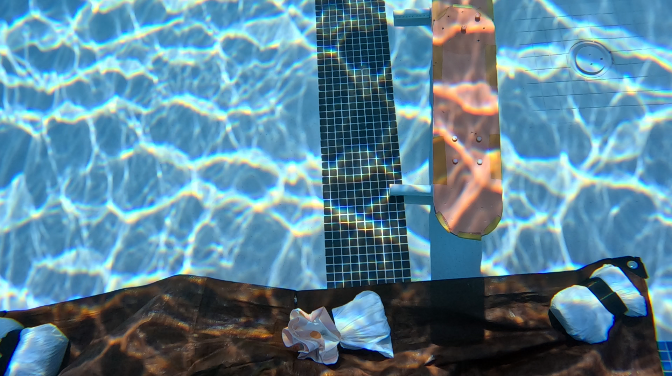pathmarker: (431, 0, 500, 234)
sandbag: (0, 255, 662, 374)
